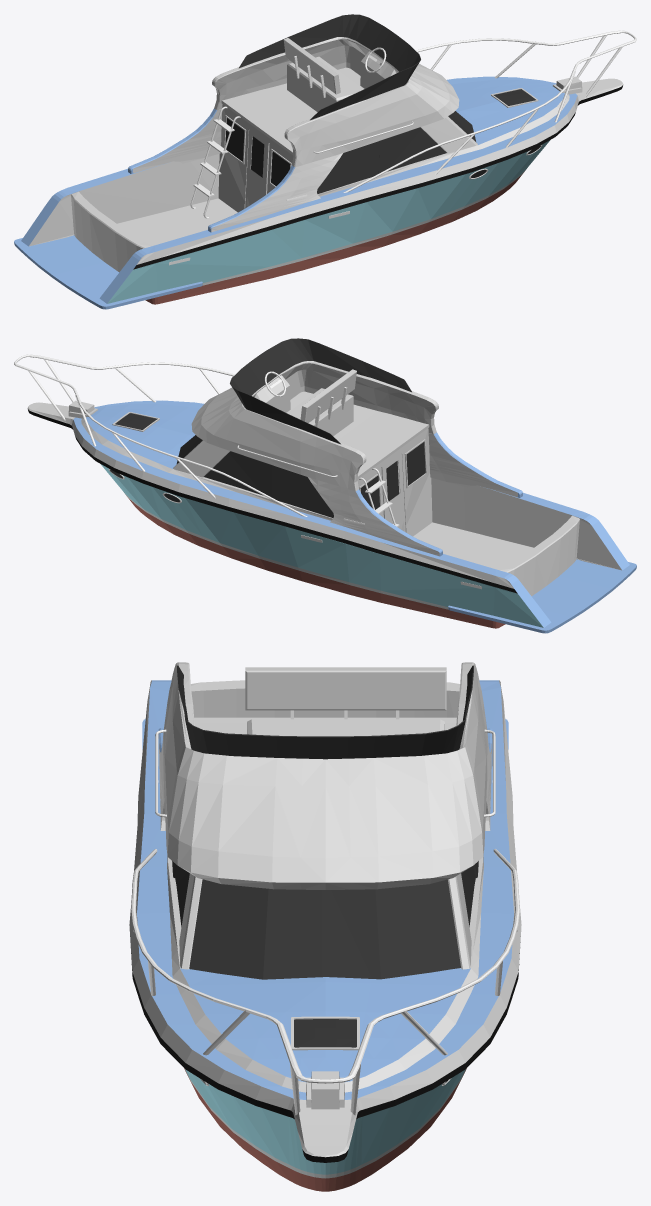
Rendered from boat.glb.
3 views of the same model, one above another, from view 1: azimuth 30°, elevation 25°; view 2: azimuth 150°, elevation 25°; view 3: azimuth 270°, elevation 25° (orthographic). The views are drawn at different scales.
Bounding box in the file's own units: 14.3 × 3.99 × 4.18.
